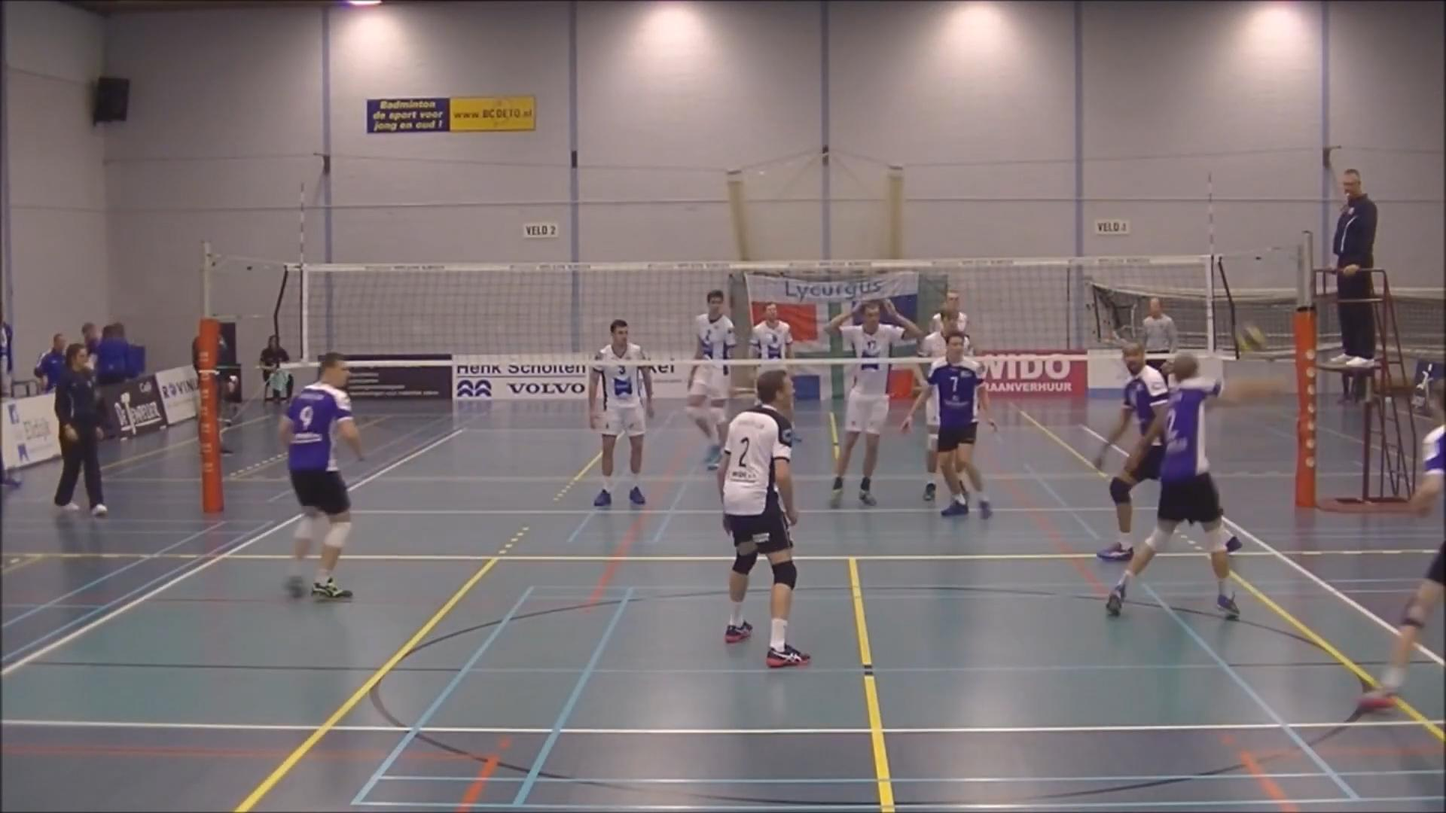Player: (718, 370, 810, 667), (279, 352, 362, 598), (825, 299, 923, 507), (901, 330, 996, 518), (1359, 541, 1445, 710), (587, 319, 652, 507), (1092, 342, 1169, 470), (686, 290, 736, 469), (916, 328, 947, 501), (749, 303, 793, 373), (930, 290, 968, 341)
Receive: (1070, 326, 1291, 628)
